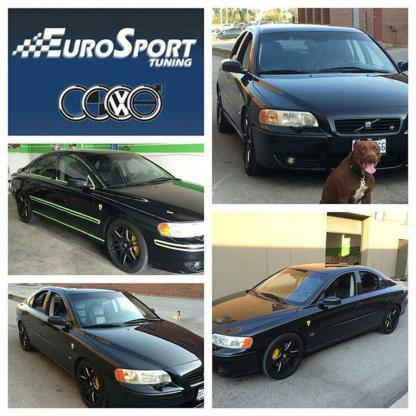Car: (217, 23, 412, 177), (7, 148, 206, 276), (210, 263, 409, 383), (16, 284, 204, 409), (212, 20, 296, 40)
